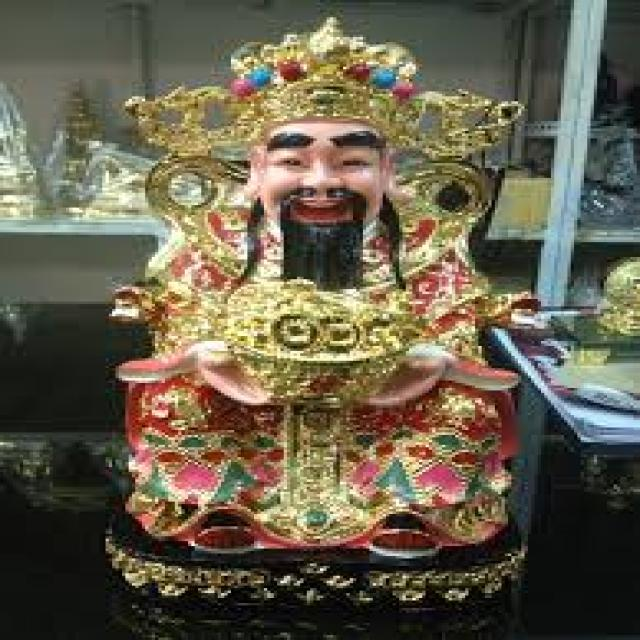Cai shen: (136, 23, 504, 526)
